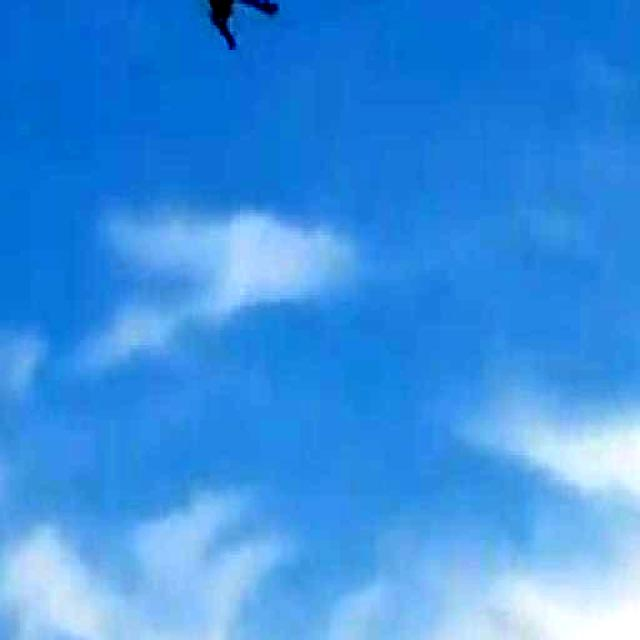drone: (191, 0, 284, 60)
